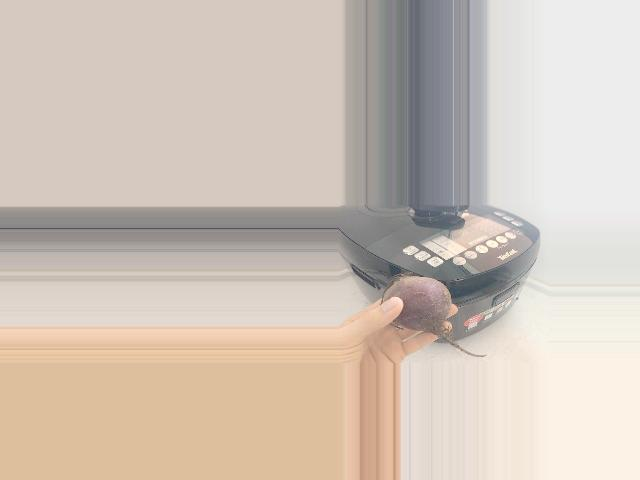beet: (381, 273, 486, 357)
